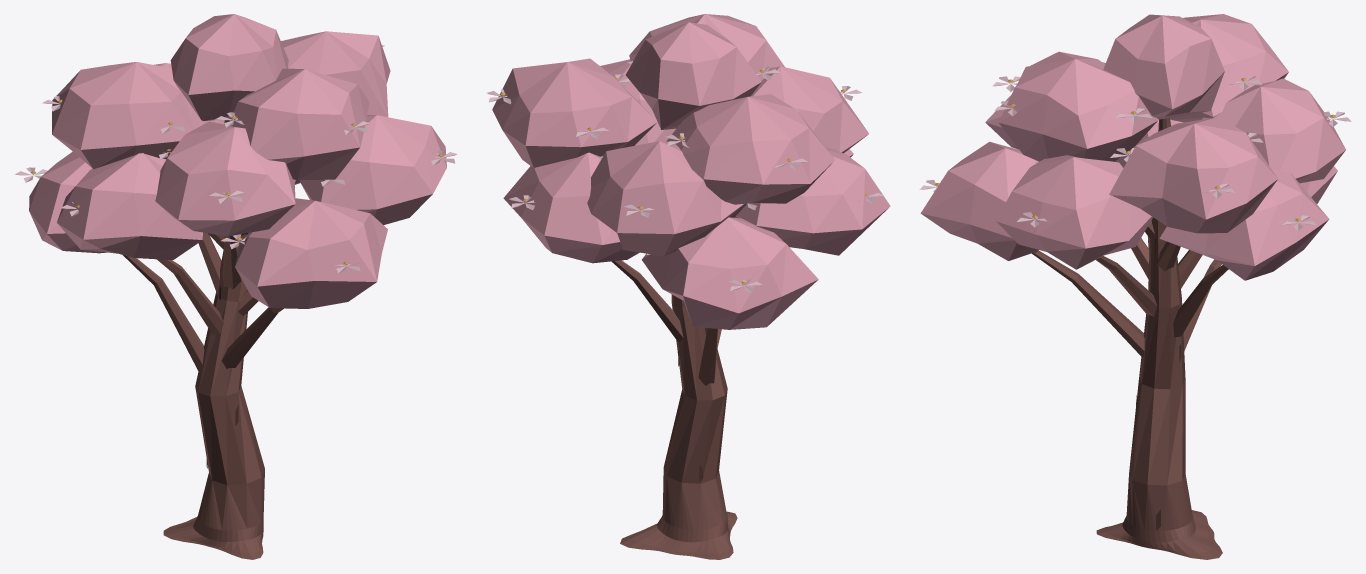
File: cherry_wild_spring.glb
3 views of the same model, side by side, from view 1: azimuth 30°, elevation 25°; view 2: azimuth 150°, elevation 25°; view 3: azimuth 270°, elevation 25° (orthographic). The views are drawn at different scales.
Parts seen in each view (by area): view 1: leaves, branches; view 2: leaves, branches; view 3: leaves, branches.
Part boxes in pixels (box(x1,y1,x2,y2)): leaves: box(14, 14, 457, 308); branches: box(123, 118, 283, 559); leaves: box(487, 14, 890, 329); branches: box(611, 216, 738, 559); leaves: box(919, 14, 1351, 280); branches: box(1032, 118, 1228, 559).
Bounding box in the file's own units: 3.33 × 4.6 × 3.45.
